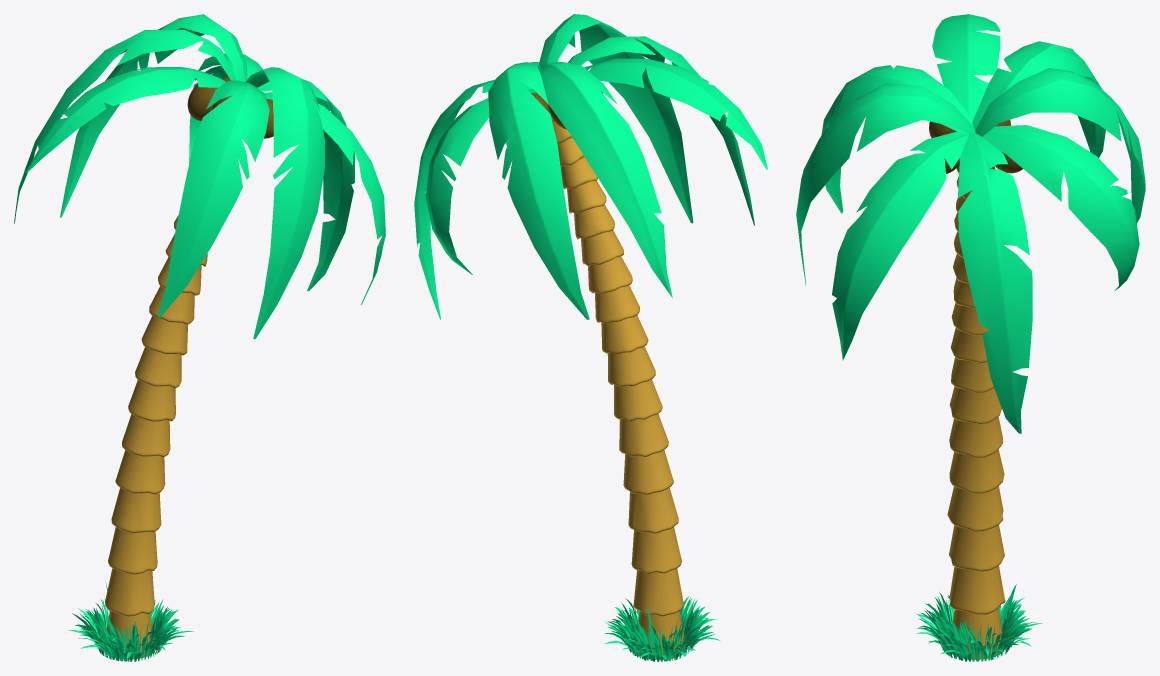
The model's file is LoopDreams_VR_Assets_R3_PalmTree.fbx.
3 views of the same model, side by side, from view 1: azimuth 30°, elevation 25°; view 2: azimuth 150°, elevation 25°; view 3: azimuth 270°, elevation 25° (orthographic). The views are drawn at different scales.
Parts seen in each view (by area): view 1: Palm_leaf, Palm_trunk, Palm_grass, Palm_coconut; view 2: Palm_leaf, Palm_trunk, Palm_grass; view 3: Palm_leaf, Palm_trunk, Palm_grass, Palm_coconut.
Boxes of the visible parts, x1,y1,x2,y2 form: Palm_leaf: (14,14,385,339); Palm_trunk: (105,215,207,659); Palm_grass: (68,582,193,661); Palm_coconut: (187,76,273,138); Palm_leaf: (414,14,767,319); Palm_trunk: (536,93,684,659); Palm_grass: (604,596,720,661); Palm_leaf: (796,14,1145,433); Palm_trunk: (947,131,1005,659); Palm_grass: (915,584,1042,661); Palm_coconut: (929,120,1022,191).
Bounding box in the file's own units: 249 × 414 × 208.
